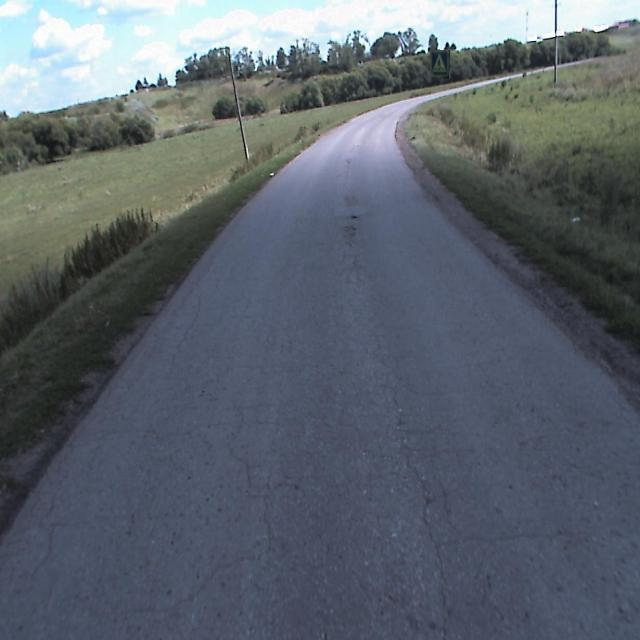road: (0, 57, 639, 639)
